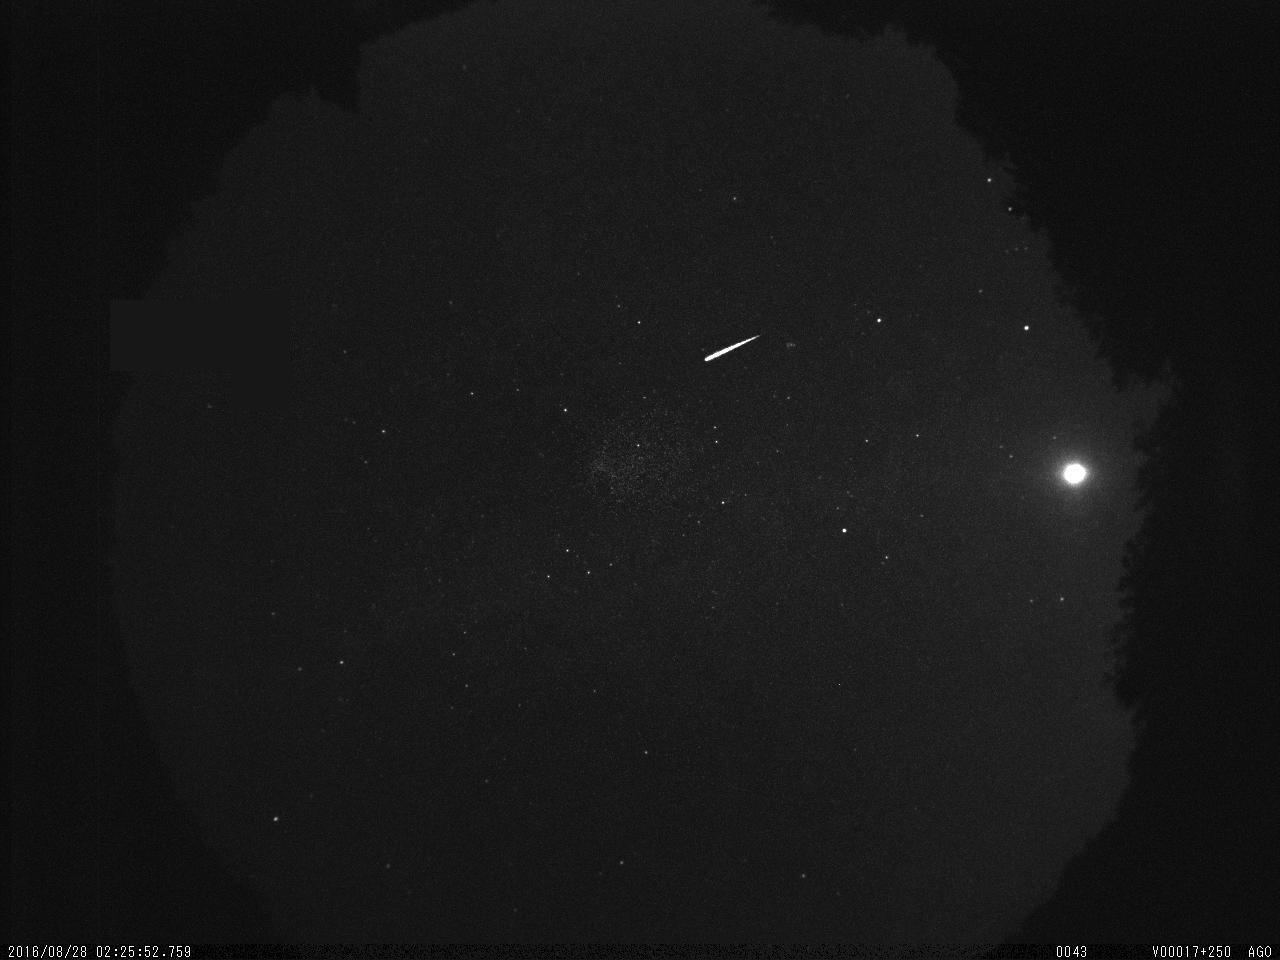Meteor: (700, 331, 764, 362)
